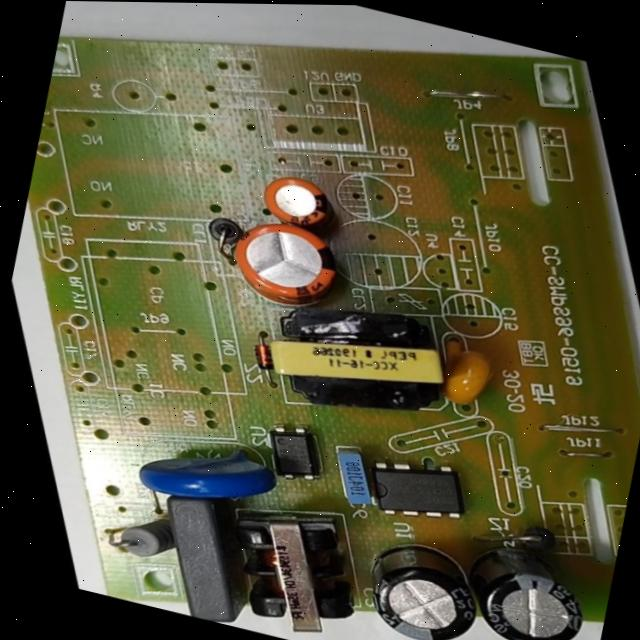Cap1: (194, 191, 381, 334)
Cap2: (236, 152, 362, 255)
Cap3: (325, 507, 517, 640)
Cap4: (441, 519, 619, 640)
MOSFET: (334, 432, 496, 548)
Mov: (102, 400, 308, 539)
Resistor: (83, 491, 194, 582)
Transformer: (218, 263, 484, 452), (187, 477, 395, 640)
